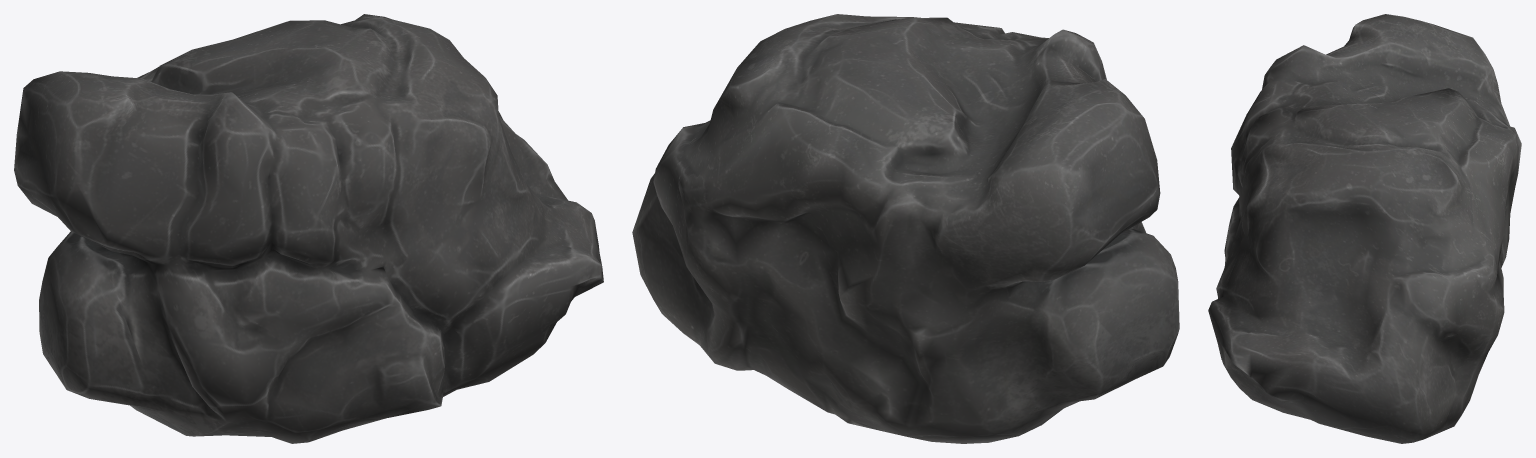
Rendered from one_more_stylized_rock_-_game-ready__free.glb.
3 renders of one model, left to right at view 1: azimuth 30°, elevation 25°; view 2: azimuth 150°, elevation 25°; view 3: azimuth 270°, elevation 25°, orthographic. The views are drawn at different scales.
Visible parts, largest first — view 1: Group55921; view 2: Group55921; view 3: Group55921.
Boxes of the visible parts, box(x1,y1,x2,y2) form: Group55921: box(14, 14, 603, 443); Group55921: box(632, 14, 1179, 443); Group55921: box(1208, 14, 1521, 443).
Bounding box in the file's own units: 3.9 × 2.7 × 2.51.
Materials: 1 (1 with a texture image).
